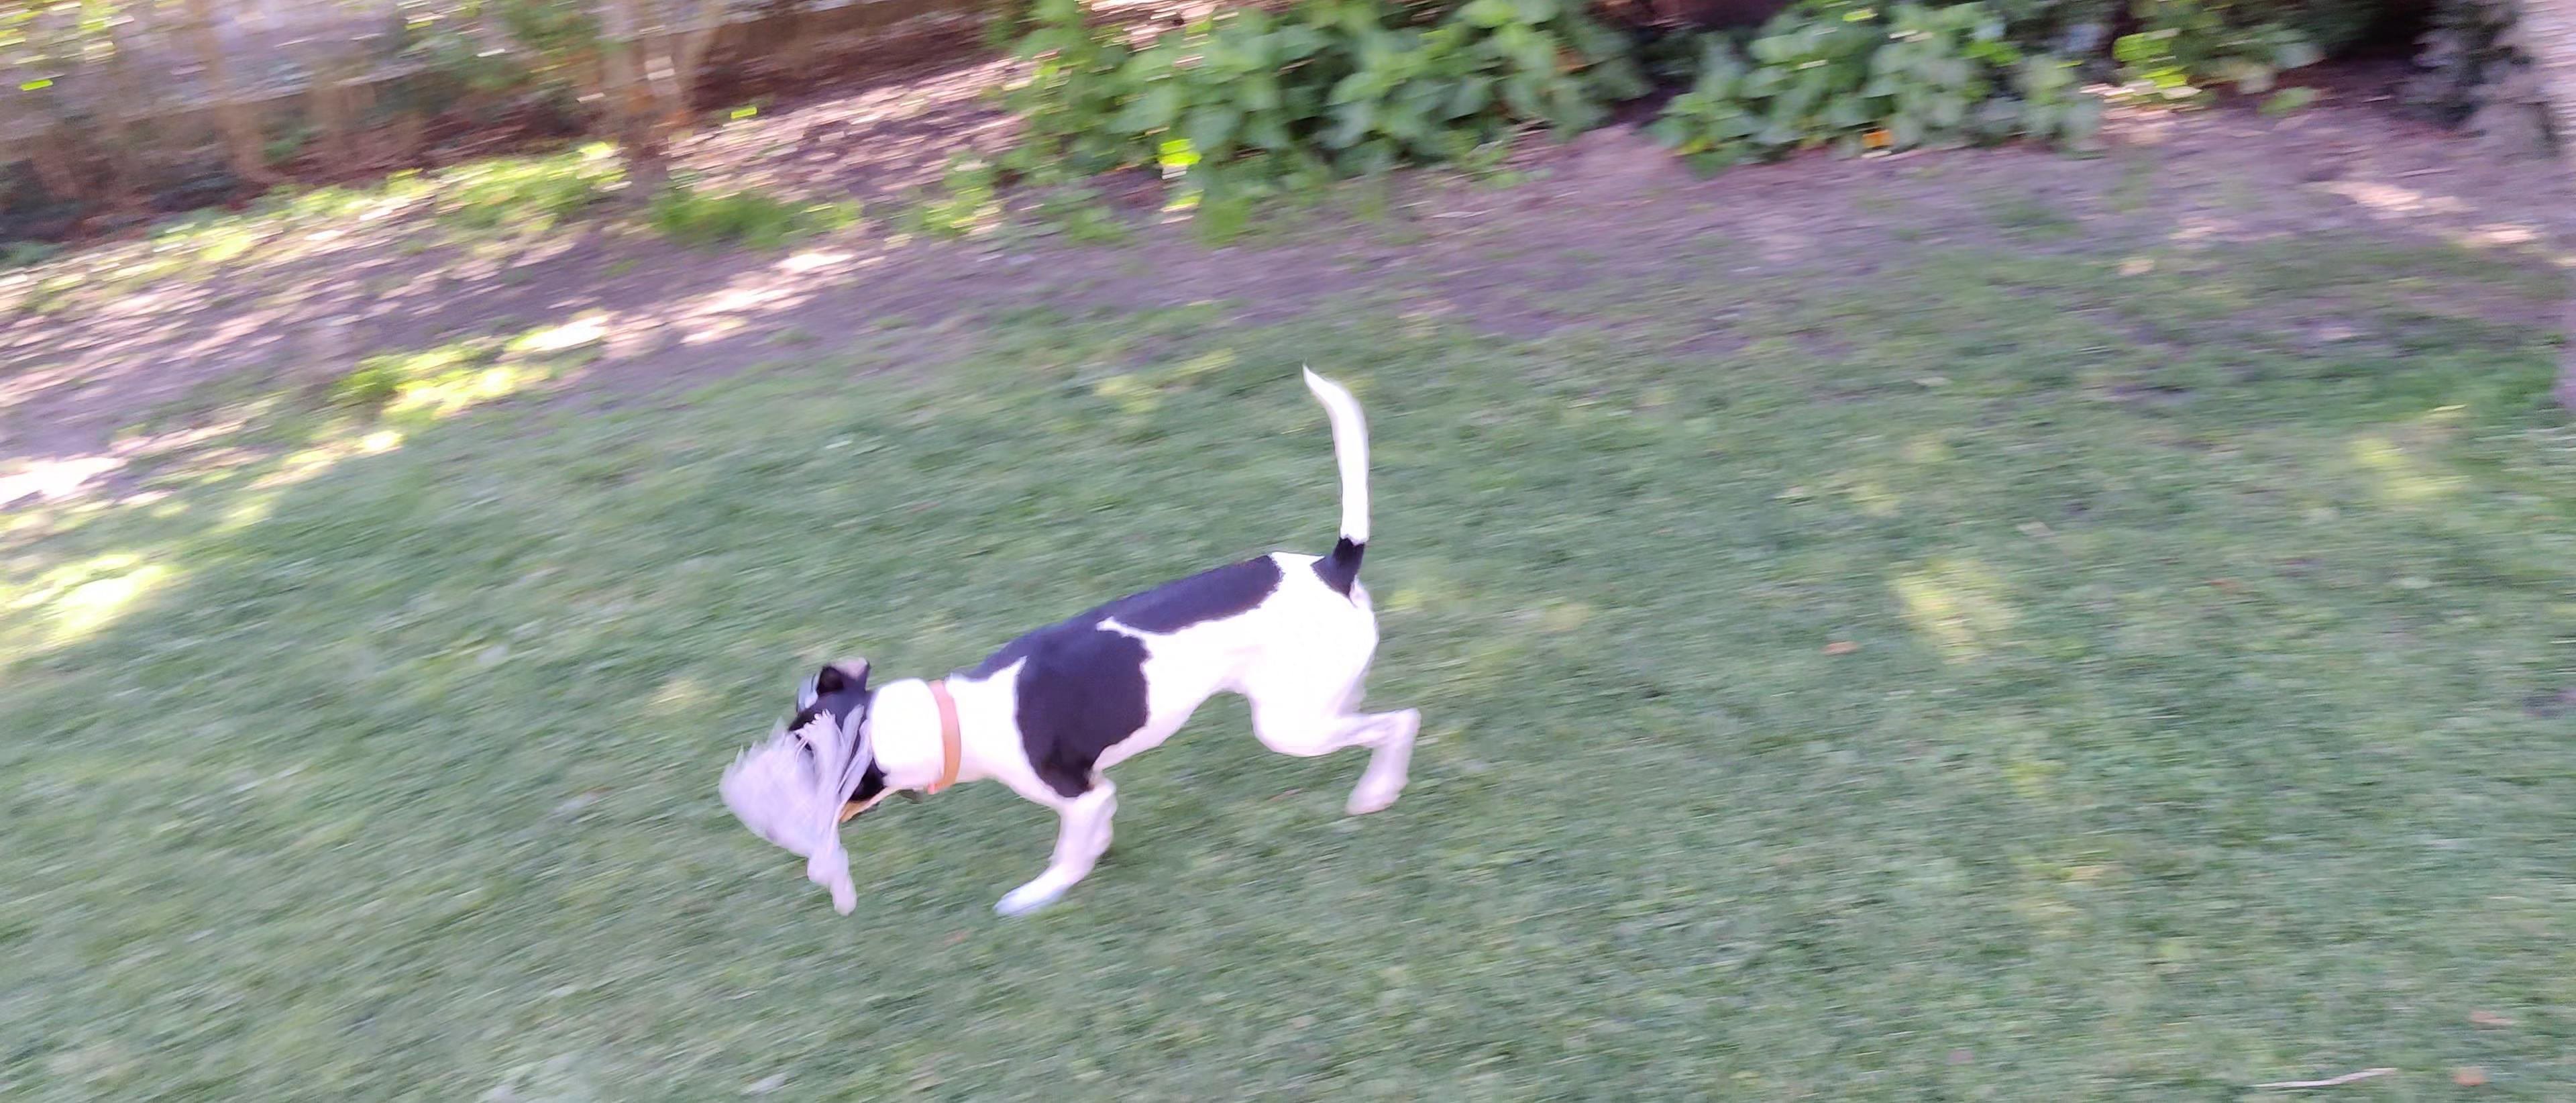Dog: (769, 358, 1439, 917)
